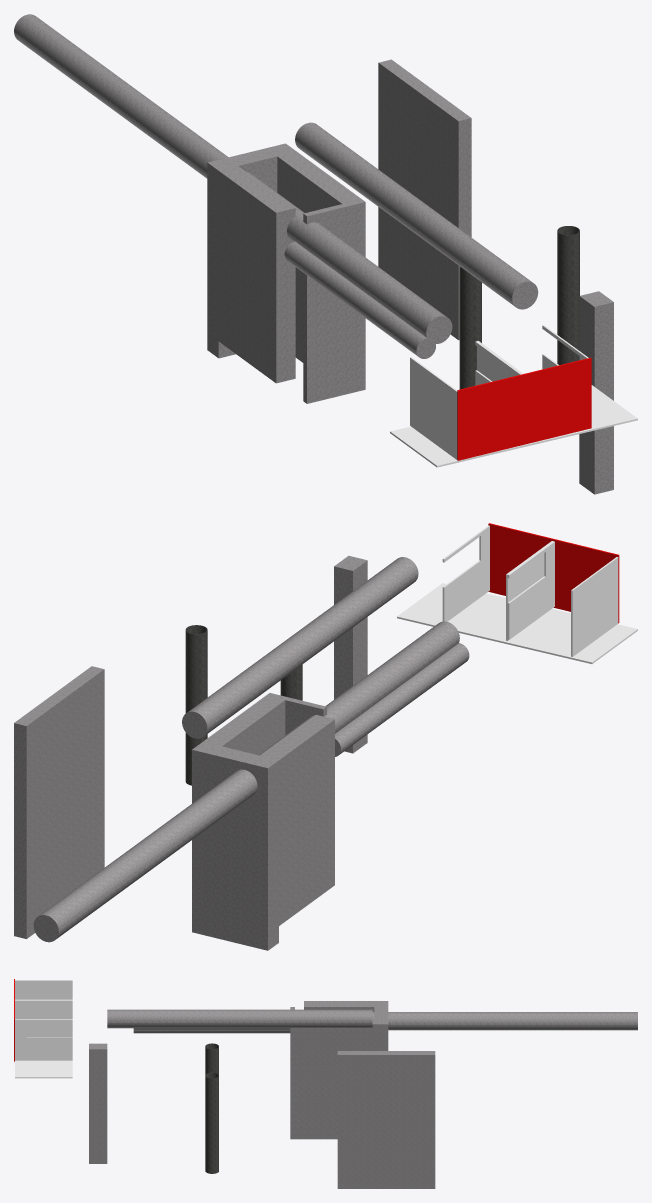
3 views of the same model, one above another, from view 1: azimuth 30°, elevation 25°; view 2: azimuth 150°, elevation 25°; view 3: azimuth 270°, elevation 25° (orthographic). The views are drawn at different scales.
Parts seen in each view (by area): view 1: 0_3_1_2_1_3_1; view 2: 0_3_1_2_1_3_1; view 3: 0_3_1_2_1_3_1.
Boxes of the visible parts, left/top/right/bottom form: 0_3_1_2_1_3_1: left=14, top=14, right=637, bottom=494; 0_3_1_2_1_3_1: left=14, top=523, right=637, bottom=950; 0_3_1_2_1_3_1: left=14, top=979, right=637, bottom=1188.
Bounding box in the file's own units: 9.28 × 6.62 × 27.1.
18 materials, 11 textured.
